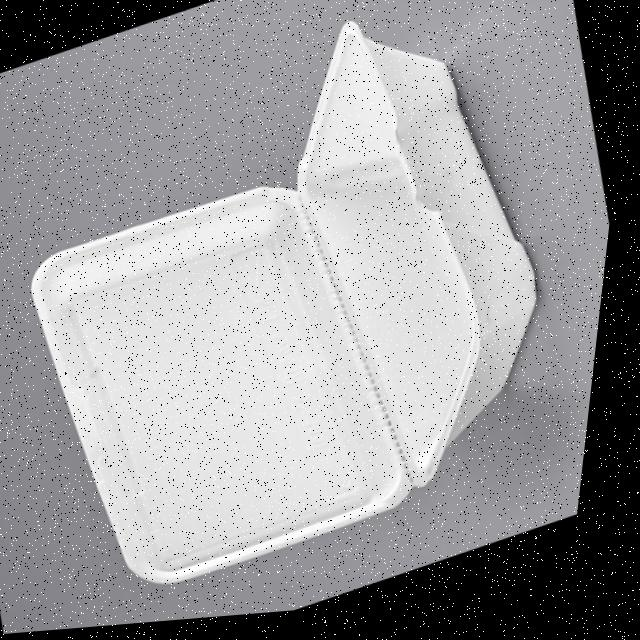foam: (0, 0, 631, 639)
